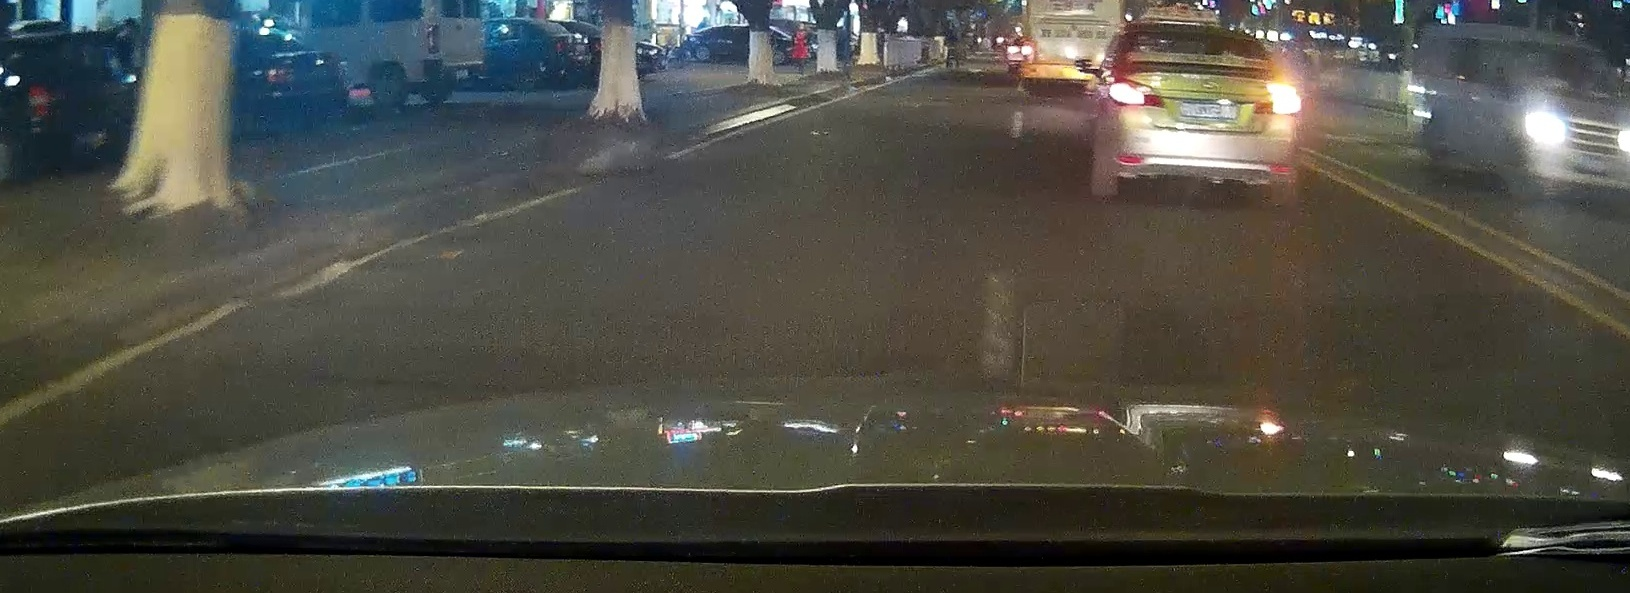L_light: (1105, 75, 1163, 108)
R_light: (1254, 88, 1297, 114)
T_light: (1193, 32, 1214, 38)
night-right: (1092, 20, 1298, 202)
